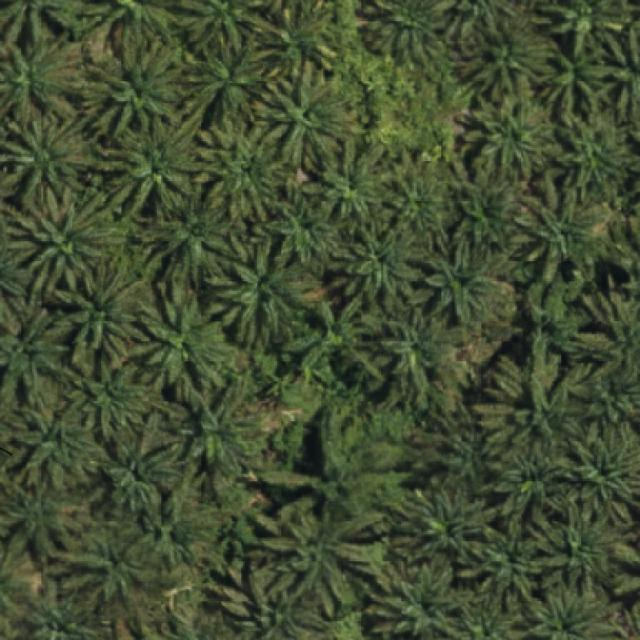Kelapa_Sawit: (255, 492, 393, 622), (472, 326, 590, 468), (206, 228, 329, 357), (248, 55, 370, 179), (131, 278, 243, 405), (388, 476, 506, 592), (92, 105, 210, 220), (71, 32, 191, 143), (4, 186, 114, 305), (138, 183, 248, 294), (43, 517, 174, 609), (477, 436, 578, 553), (512, 171, 612, 289), (525, 492, 630, 603), (52, 253, 152, 369), (0, 391, 109, 497), (192, 116, 292, 230), (175, 24, 282, 130), (452, 0, 559, 102), (457, 514, 560, 618), (452, 87, 560, 184), (92, 408, 186, 518), (172, 369, 260, 486), (285, 289, 389, 386), (305, 126, 398, 234), (512, 273, 596, 384), (328, 221, 428, 314), (426, 225, 512, 333), (373, 302, 456, 412), (61, 352, 161, 443), (260, 177, 351, 277), (448, 158, 526, 273), (125, 478, 212, 576), (532, 28, 620, 122), (548, 106, 634, 202), (382, 164, 455, 238)
